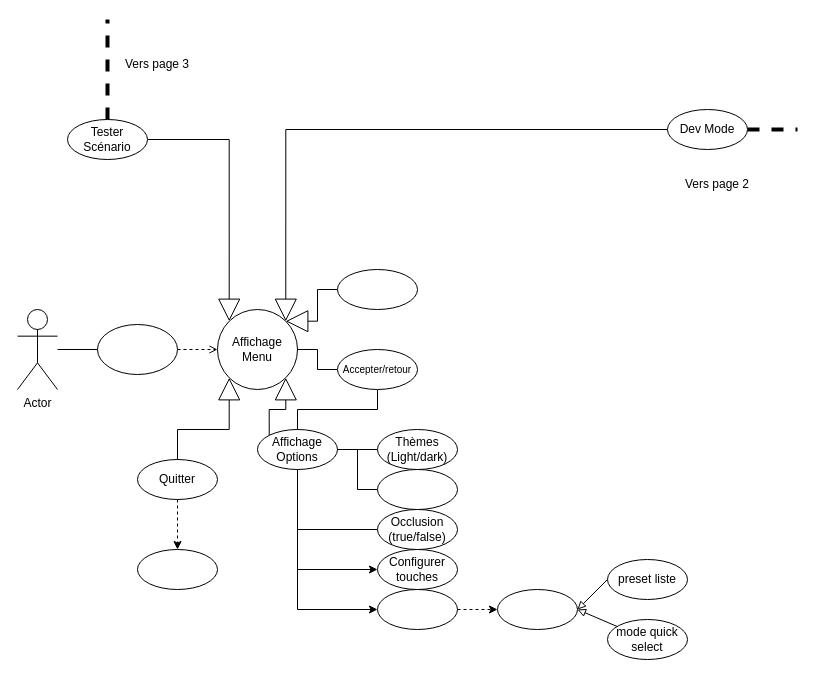
Image size: 818x677. Some labels were removed from this diagram. Here are the shapes that lost their labels. From the top down, the centre of each, then its label:
point (377, 289): Lien Github
point (137, 349): Ouverture du programme
point (417, 489): Choix Languages
point (177, 569): Arrêt
point (417, 609): Configuer audio
point (537, 609): EQ personalisé
